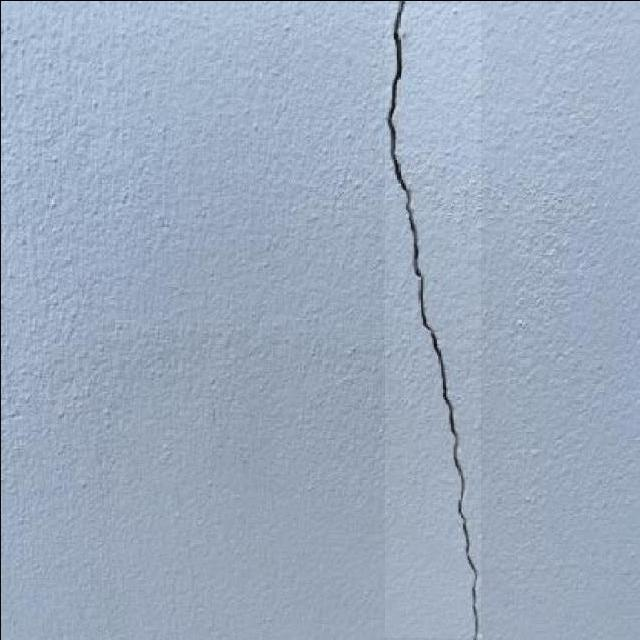crack: (383, 0, 483, 639), (382, 37, 418, 624), (378, 222, 396, 640), (386, 2, 410, 216)
